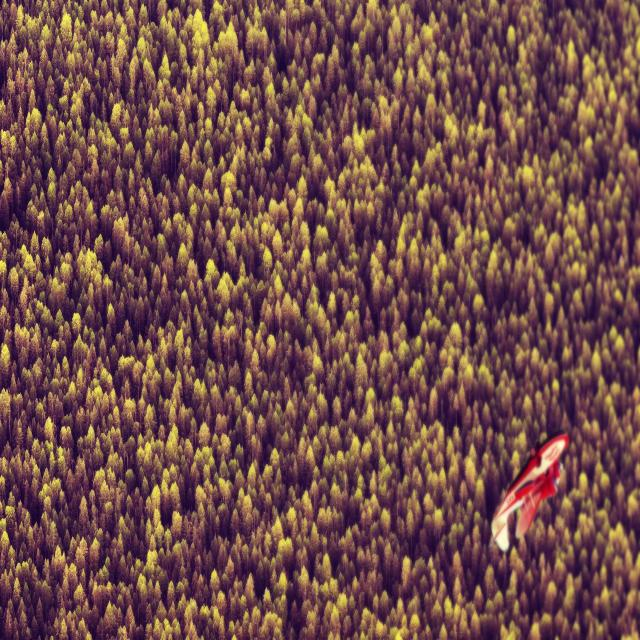airplane: (489, 432, 569, 551)
